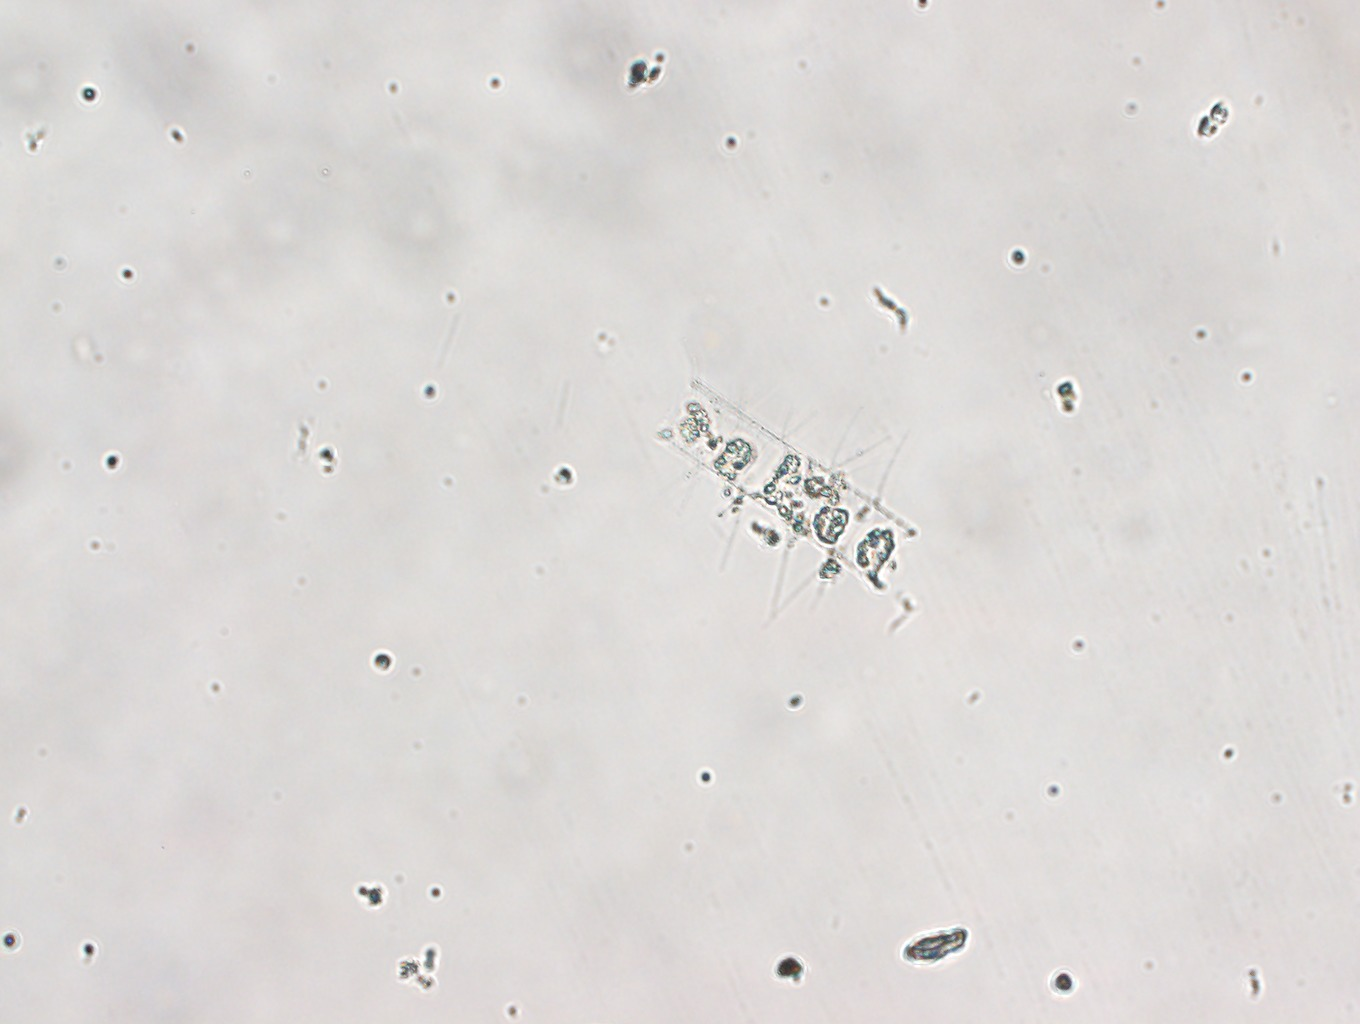chaetoceros: (652, 332, 924, 622)
